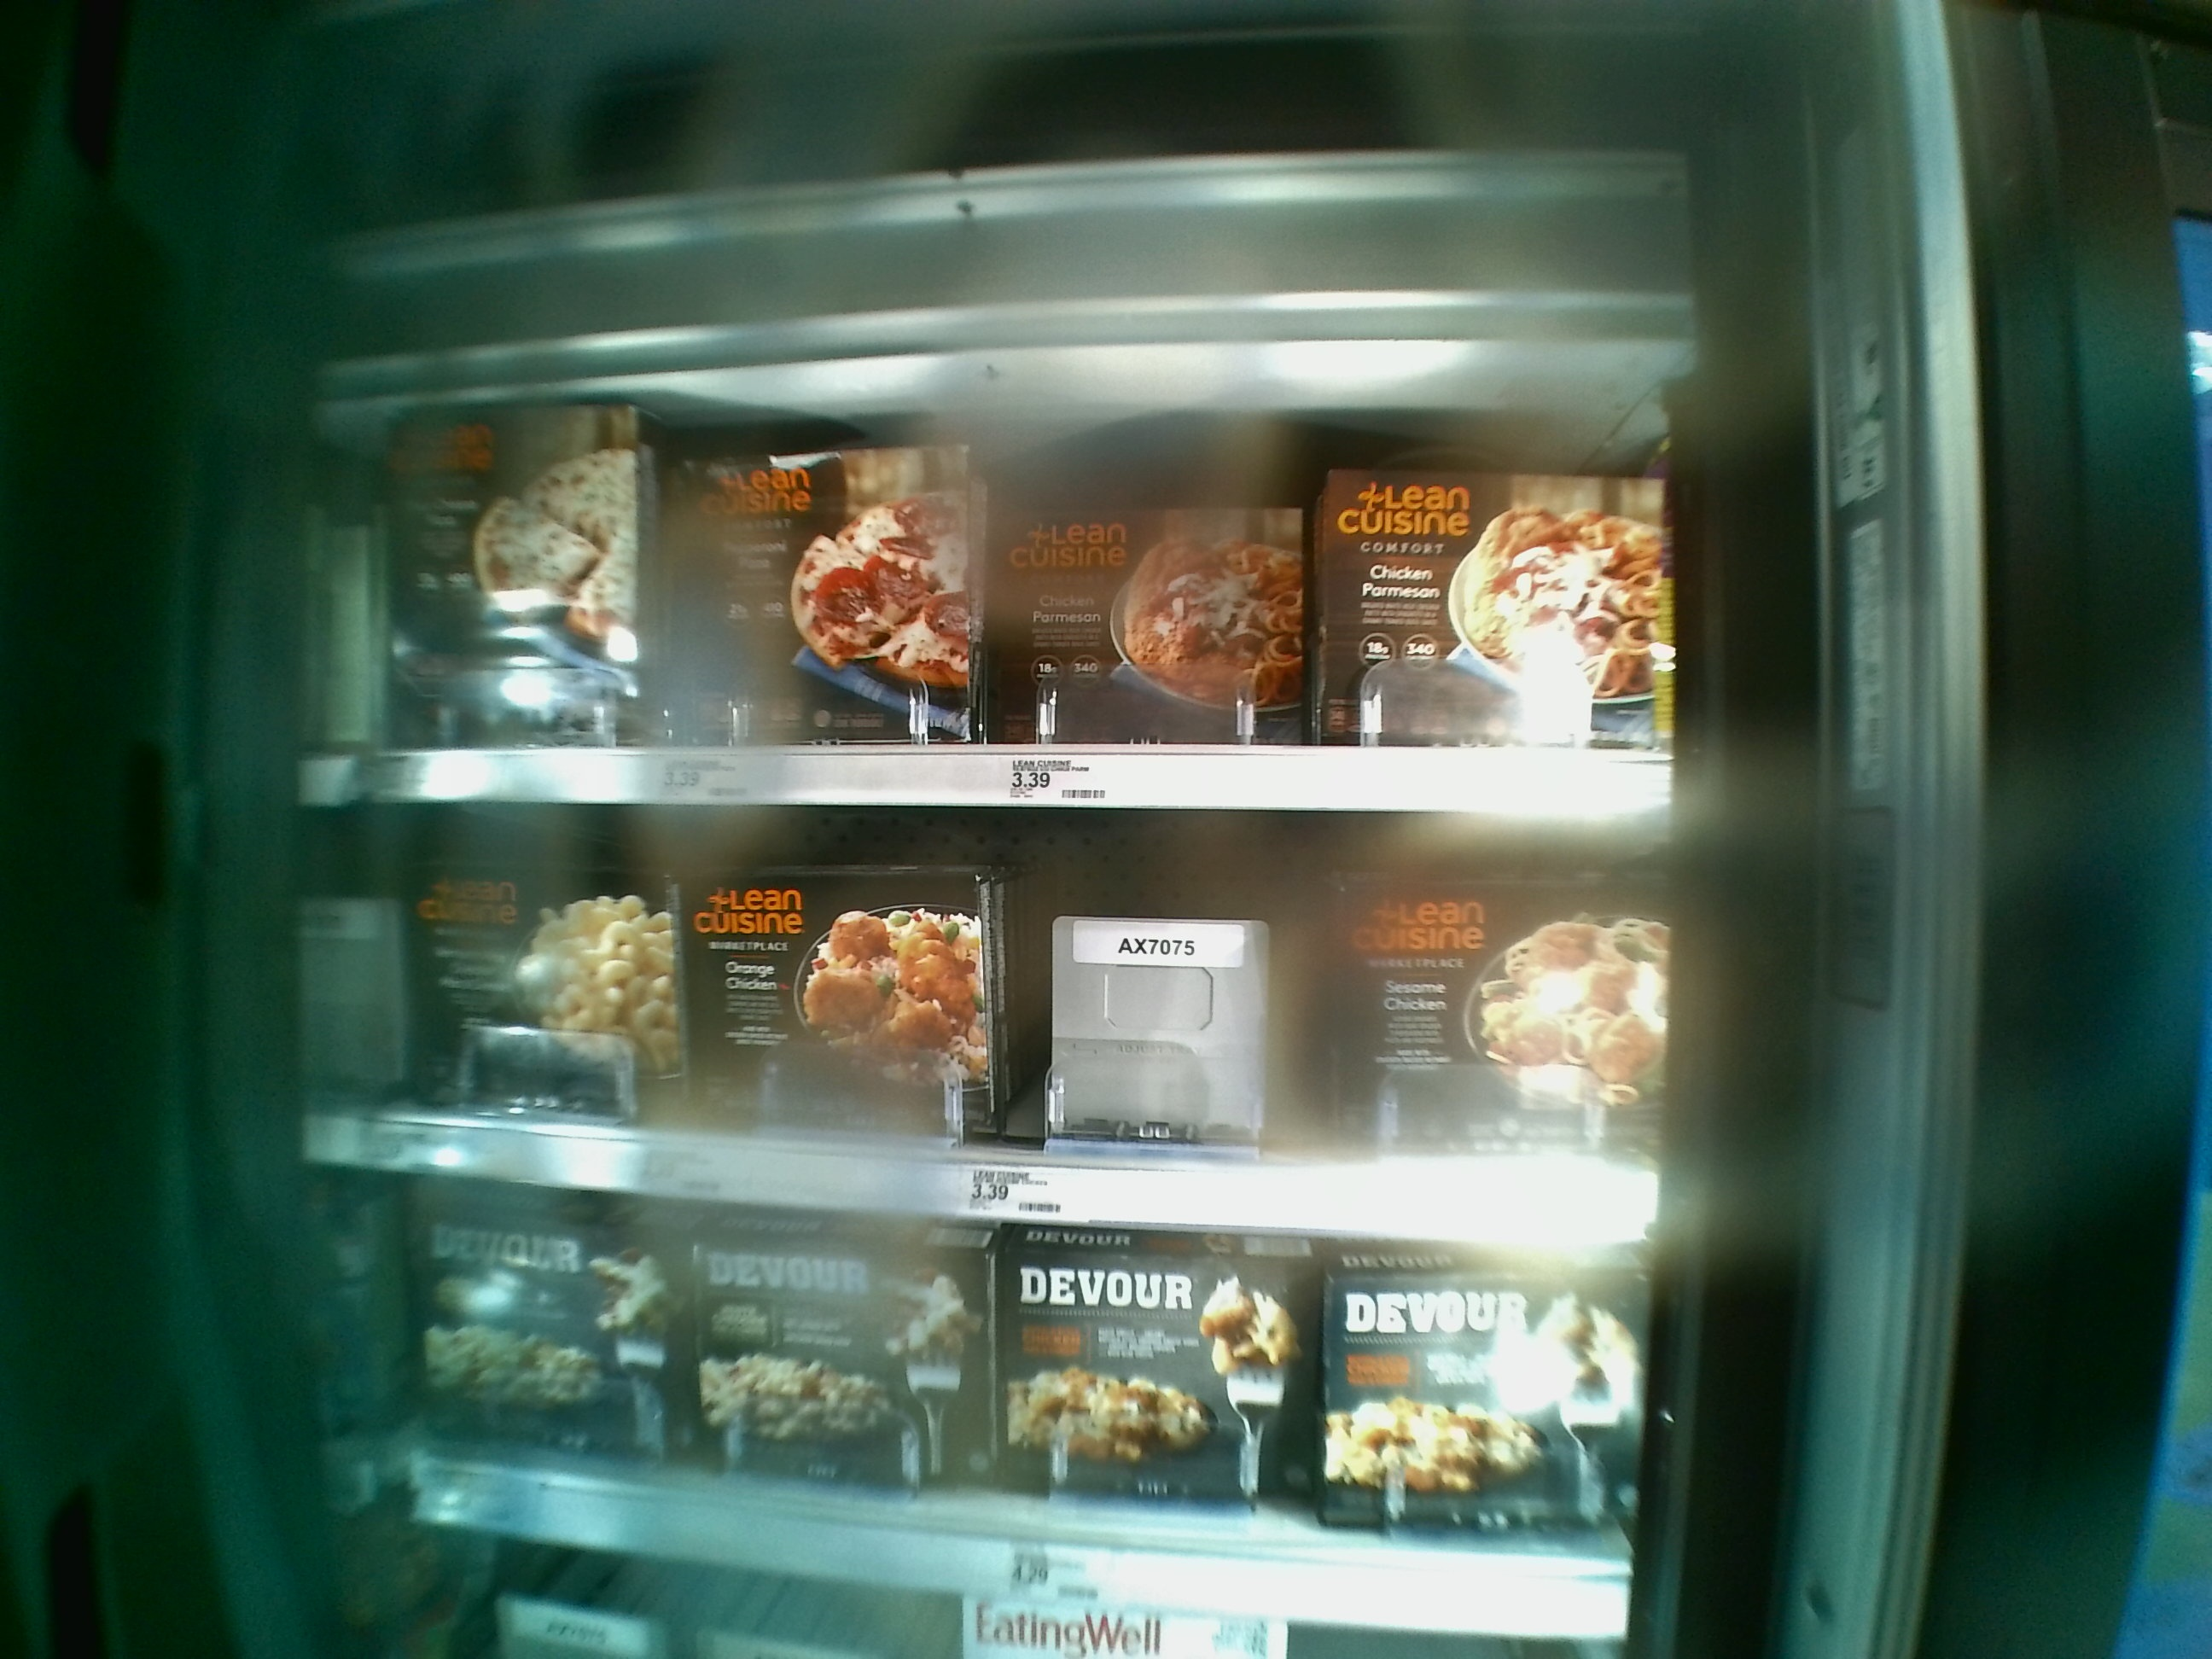shelf: (294, 793, 1649, 1244), (289, 380, 1674, 817)
